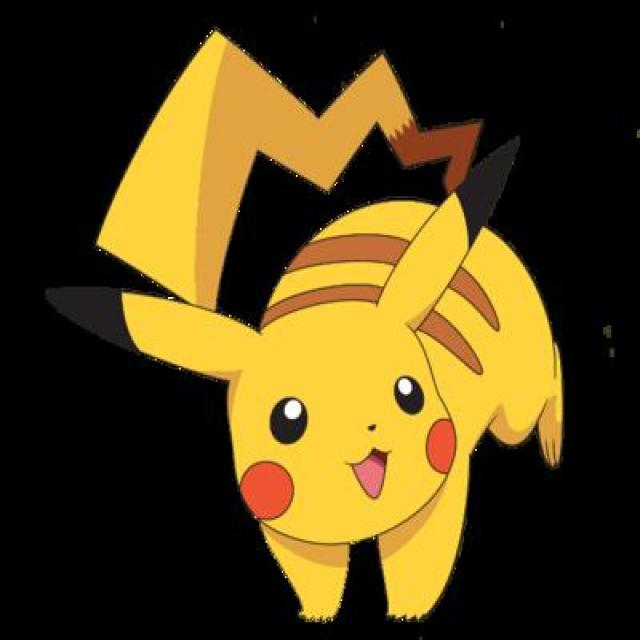pikachu: (48, 25, 580, 623)
